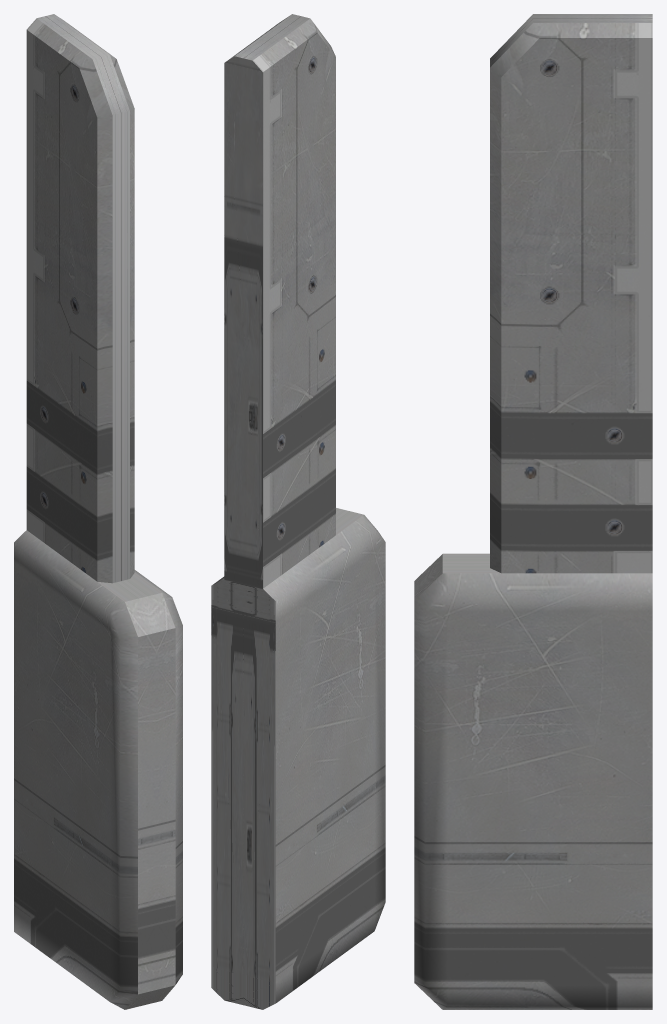
File: SM_SPillarS04c.fbx
3 views of the same model, side by side, from view 1: azimuth 30°, elevation 25°; view 2: azimuth 150°, elevation 25°; view 3: azimuth 270°, elevation 25° (orthographic). The views are drawn at different scales.
Visible parts, largest first — view 1: SM_SPillarS04c_LOD0; view 2: SM_SPillarS04c_LOD0; view 3: SM_SPillarS04c_LOD0.
Part boxes in pixels (box(x1,y1,x2,y2)): SM_SPillarS04c_LOD0: box(14, 14, 182, 1009); SM_SPillarS04c_LOD0: box(211, 14, 385, 1009); SM_SPillarS04c_LOD0: box(414, 14, 652, 1009).
Size of the model in its own units: 25 by 77.43 by 351.
Materials: 1 (1 with a texture image).
